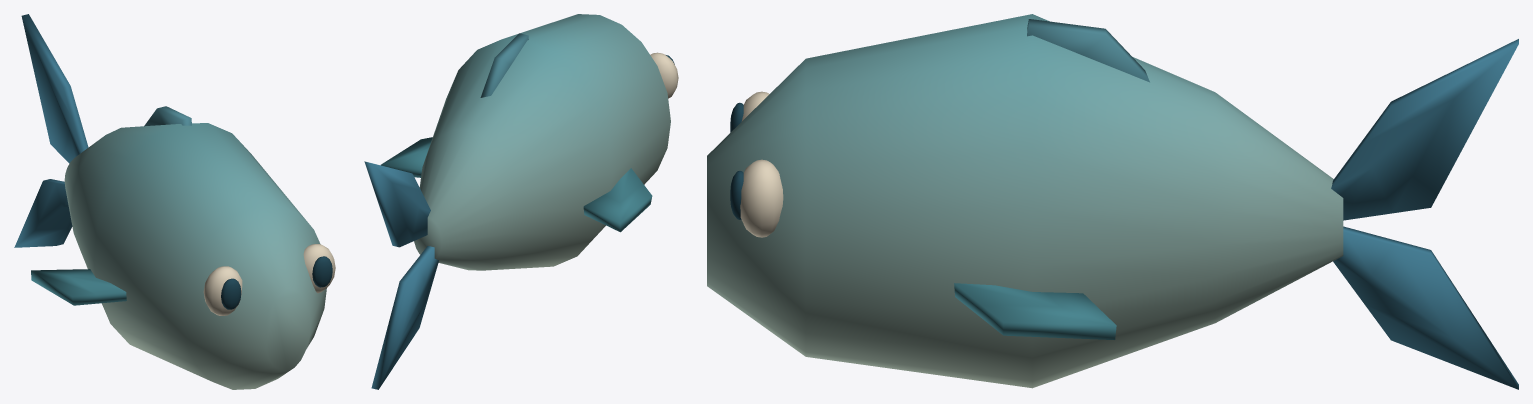
The model's file is fish.glb.
3 views of the same model, side by side, from view 1: azimuth 30°, elevation 25°; view 2: azimuth 150°, elevation 25°; view 3: azimuth 270°, elevation 25° (orthographic). The views are drawn at different scales.
Parts seen in each view (by area): view 1: food_fish_painted_mesh; view 2: food_fish_painted_mesh; view 3: food_fish_painted_mesh.
Boxes of the visible parts, x1=… form: food_fish_painted_mesh: x1=14, y1=14, x2=335, y2=389; food_fish_painted_mesh: x1=364, y1=14, x2=678, y2=389; food_fish_painted_mesh: x1=707, y1=14, x2=1518, y2=389.
Size of the model in its own units: 1.18 by 1.12 by 2.22.
